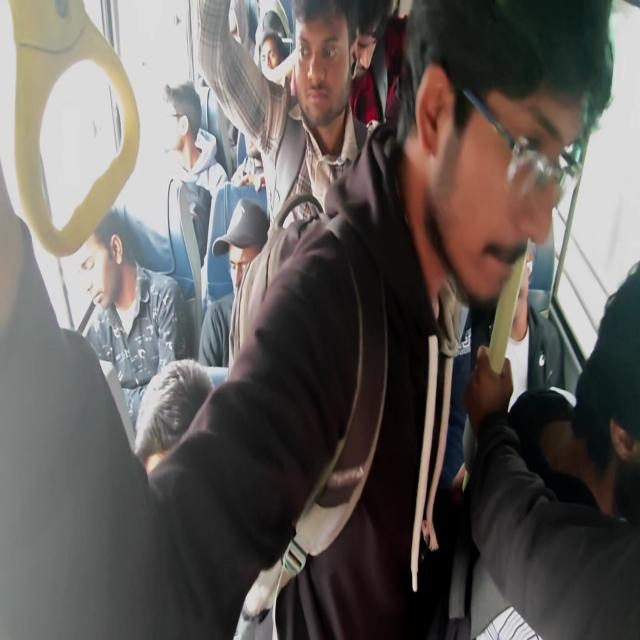person: (414, 12, 578, 288), (591, 316, 640, 577), (144, 370, 214, 522), (295, 0, 362, 108), (77, 210, 144, 307), (164, 79, 207, 182), (229, 81, 267, 178), (227, 212, 267, 291), (354, 0, 373, 73), (210, 0, 242, 42), (263, 41, 291, 69), (260, 11, 286, 36)
